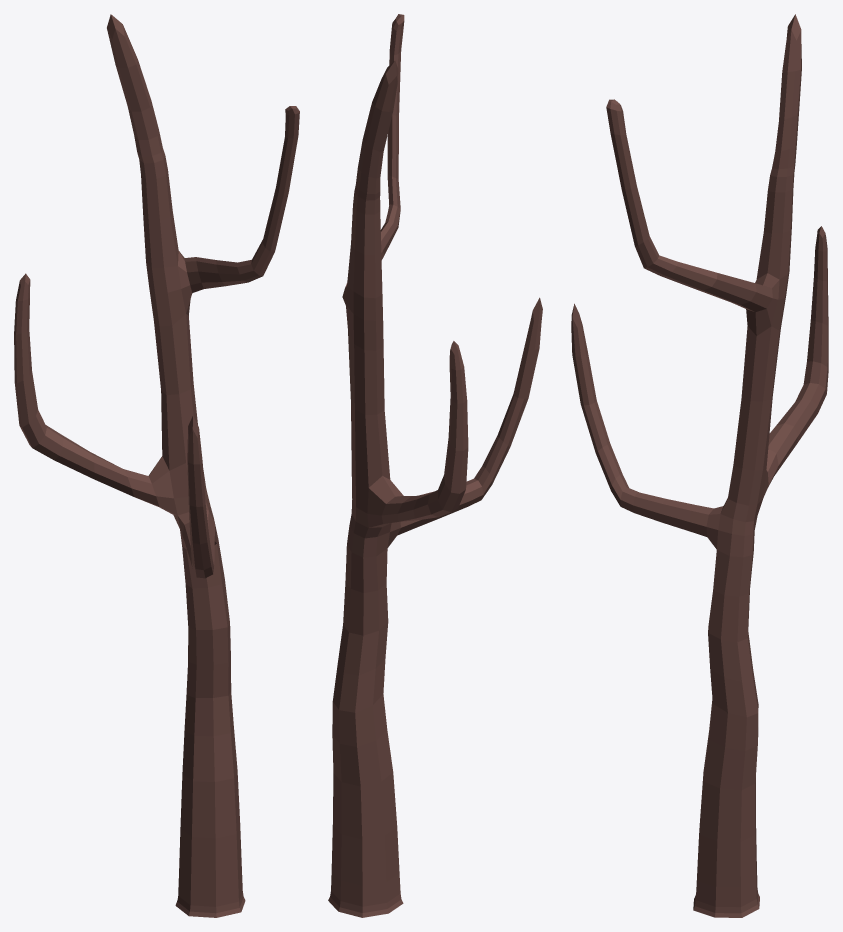
The model's file is CommonTree_Dead_flat.glb.
3 renders of one model, left to right at view 1: azimuth 30°, elevation 25°; view 2: azimuth 150°, elevation 25°; view 3: azimuth 270°, elevation 25°, orthographic. The views are drawn at different scales.
Visible parts, largest first — view 1: CommonTree_Dead_3; view 2: CommonTree_Dead_3; view 3: CommonTree_Dead_3.
Part boxes in pixels (x1,y1,x2,y2): CommonTree_Dead_3: (14,14,299,917); CommonTree_Dead_3: (328,14,542,917); CommonTree_Dead_3: (571,14,828,917).
Bounding box in the file's own units: 2.71 × 12.79 × 3.46.
